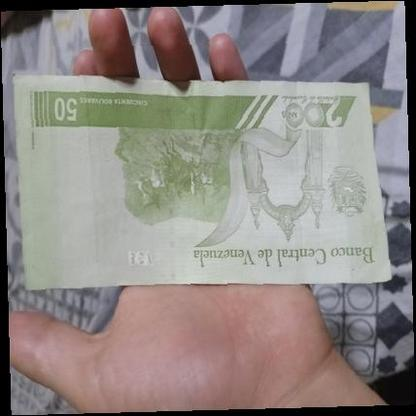fifty-back-vef: (11, 74, 391, 290)
